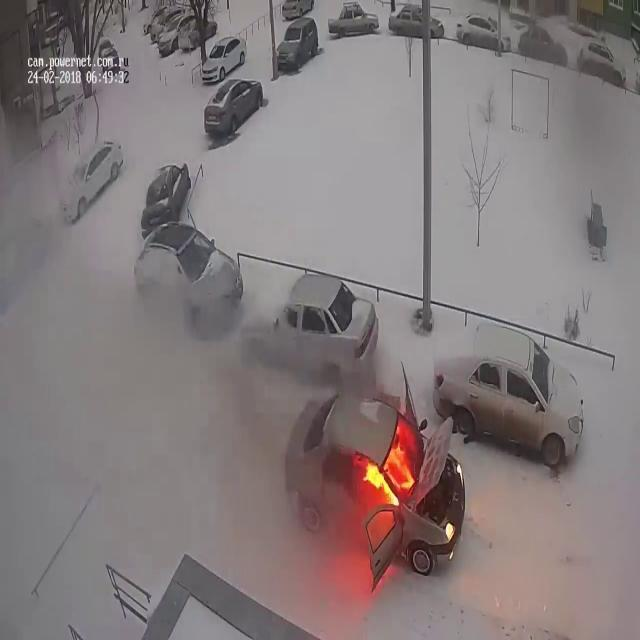Fire: (360, 422, 420, 502)
